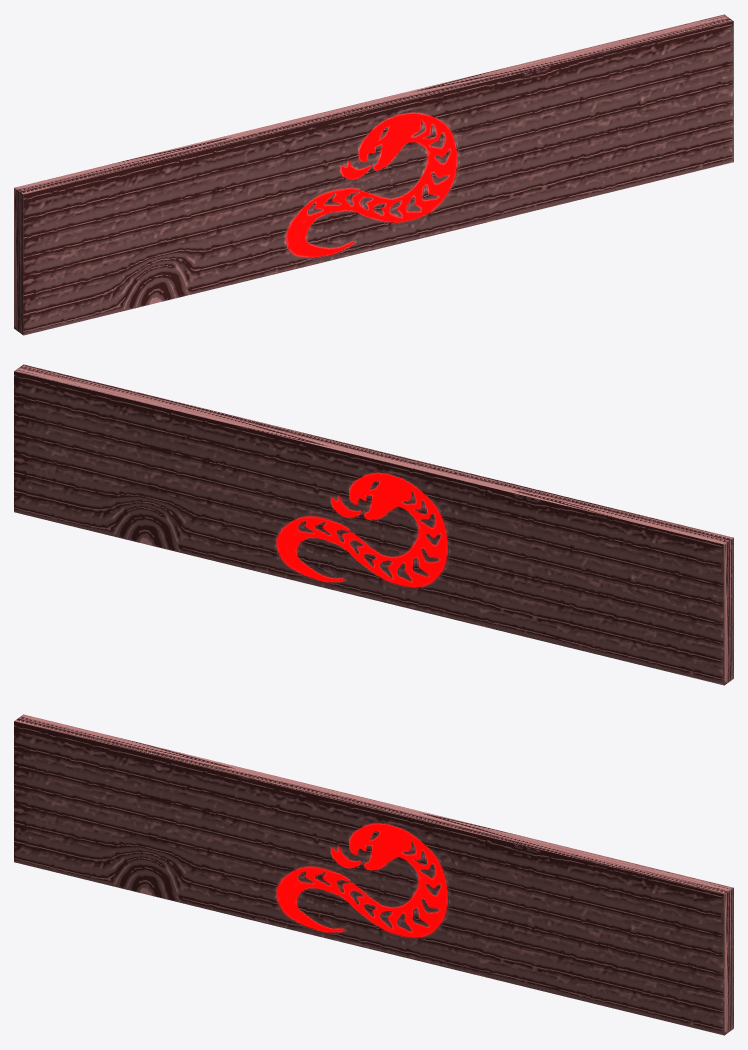
File: BarreraSerpi.fbx
3 views of the same model, one above another, from view 1: azimuth 30°, elevation 25°; view 2: azimuth 150°, elevation 25°; view 3: azimuth 330°, elevation 25° (orthographic).
Parts seen in each view (by area): view 1: BarreraSerpi; view 2: BarreraSerpi; view 3: BarreraSerpi.
Boxes of the visible parts, box(x1,y1,x2,y2) form: BarreraSerpi: box(14, 14, 733, 335); BarreraSerpi: box(14, 364, 733, 685); BarreraSerpi: box(14, 714, 733, 1035).
Bounding box in the file's own units: 1079 × 205 × 25.01.
